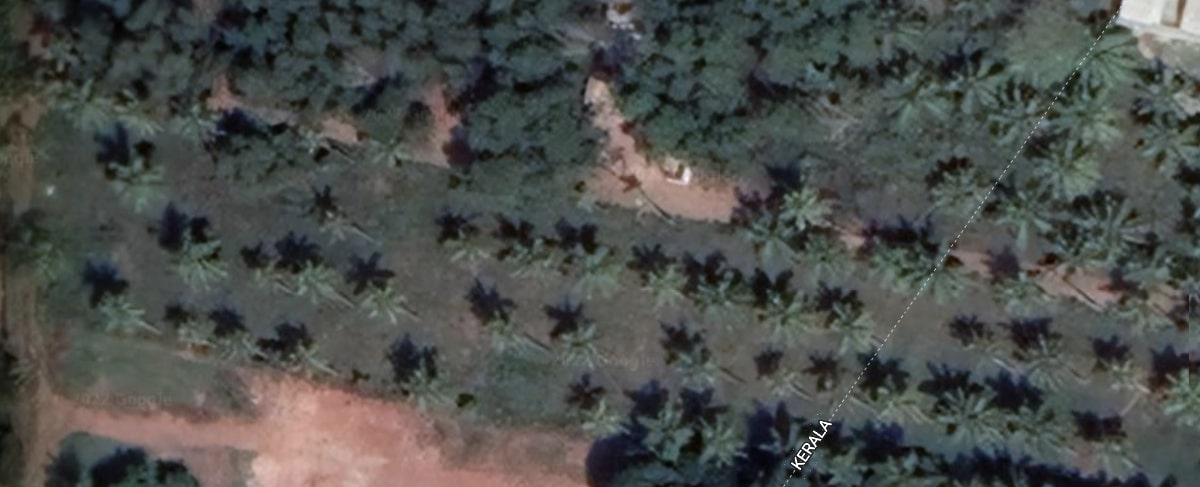coconut: (893, 240, 962, 307), (944, 41, 1006, 113), (77, 280, 150, 341), (774, 171, 830, 237), (172, 225, 228, 290), (47, 70, 107, 130), (311, 188, 371, 248), (106, 154, 168, 212), (1038, 146, 1095, 209), (891, 54, 938, 129), (1048, 85, 1109, 138), (173, 89, 229, 144), (938, 391, 997, 443), (763, 279, 810, 344), (510, 231, 566, 284), (433, 226, 490, 277), (296, 263, 355, 312), (937, 160, 989, 215), (1021, 335, 1073, 389), (473, 304, 528, 355), (404, 368, 459, 418), (111, 91, 163, 143), (1078, 206, 1131, 257), (1010, 406, 1065, 455), (550, 318, 603, 367), (665, 348, 722, 393), (172, 299, 215, 357), (571, 385, 617, 438), (758, 364, 812, 407), (867, 384, 915, 432), (574, 248, 620, 298), (246, 252, 293, 300), (1165, 361, 1200, 425), (367, 280, 415, 325), (643, 259, 689, 305), (696, 419, 741, 466), (701, 265, 743, 315), (833, 310, 875, 358), (641, 411, 683, 457), (1104, 354, 1146, 397)
